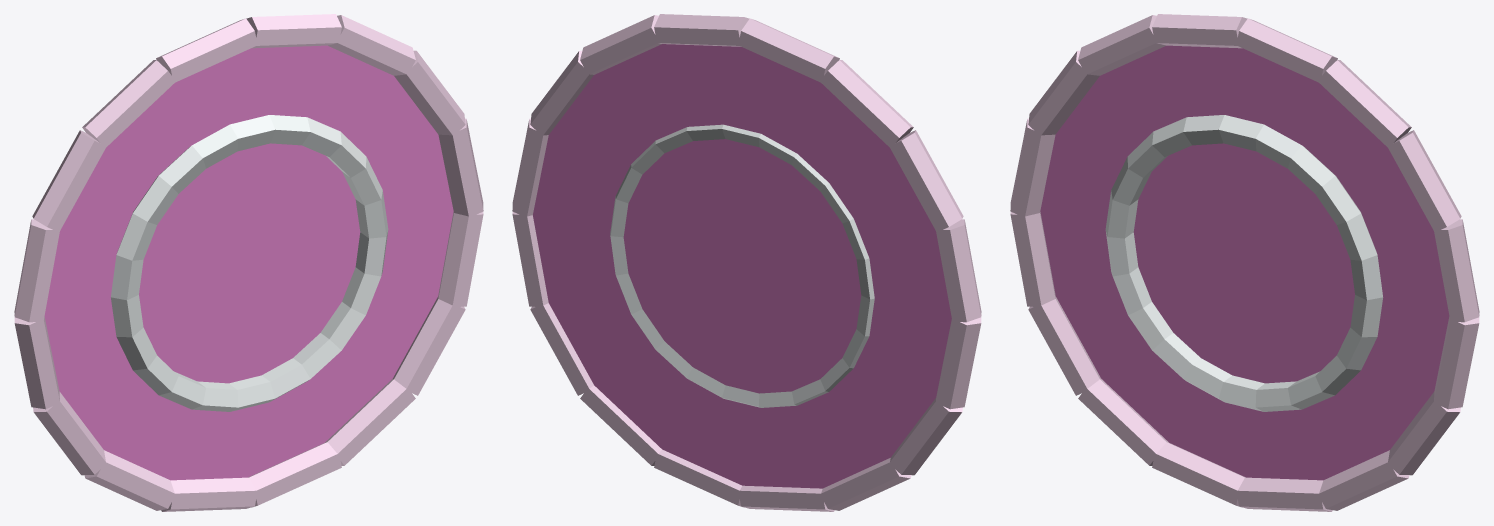
The model's file is simbolo_circulo.glb.
The picture shows the model from 3 angles, left to right: view 1: azimuth 30°, elevation 25°; view 2: azimuth 150°, elevation 25°; view 3: azimuth 330°, elevation 25°; orthographic projection.
Parts seen in each view (by area): view 1: simbolo_circulo; view 2: simbolo_circulo; view 3: simbolo_circulo.
Part boxes in pixels (x1,y1,x2,y2): simbolo_circulo: [14, 14, 483, 511]; simbolo_circulo: [512, 14, 981, 511]; simbolo_circulo: [1010, 14, 1479, 511].
Size of the model in its own units: 0.8949 by 0.8949 by 0.05.
